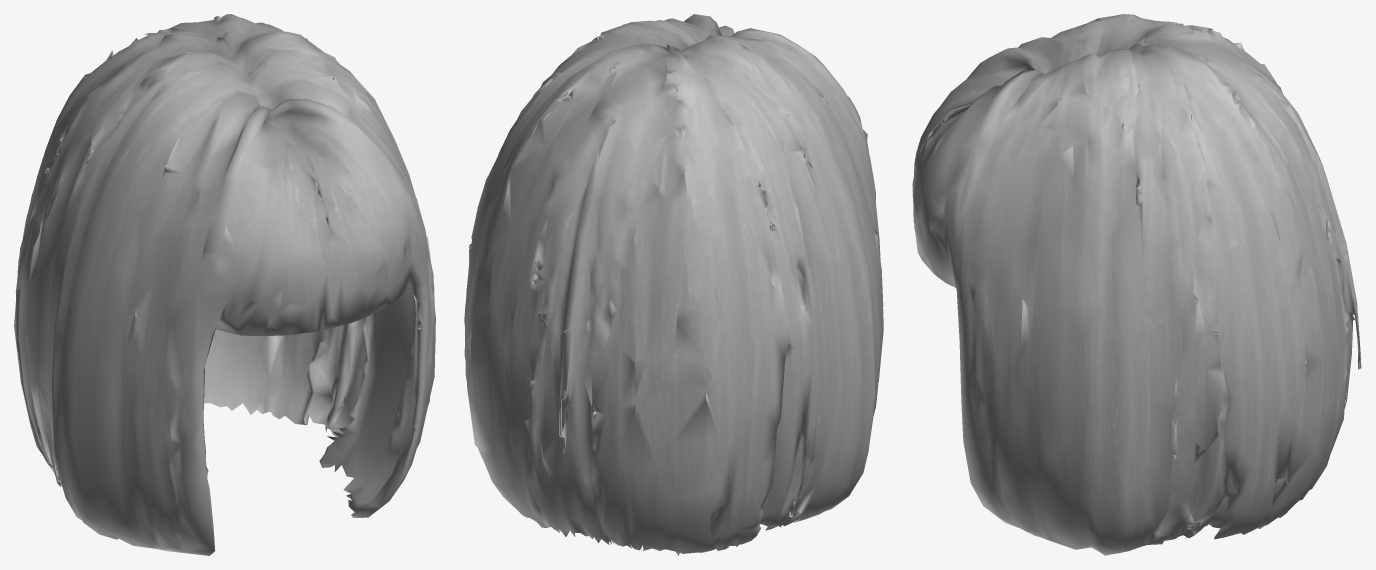
The model's file is hair_bob.glb.
3 renders of one model, left to right at view 1: azimuth 30°, elevation 25°; view 2: azimuth 150°, elevation 25°; view 3: azimuth 270°, elevation 25°, orthographic.
Visible parts, largest first — view 1: Hair; view 2: Hair; view 3: Hair.
Part boxes in pixels (x1,y1,x2,y2): Hair: (14, 14, 435, 555); Hair: (464, 14, 883, 555); Hair: (912, 14, 1361, 555).
Bounding box in the file's own units: 1.03 × 1.24 × 1.1.
Materials: 1 (1 with a texture image).
